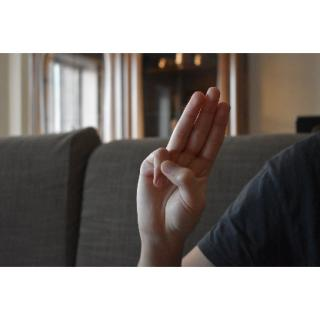THA: (132, 82, 233, 256)
